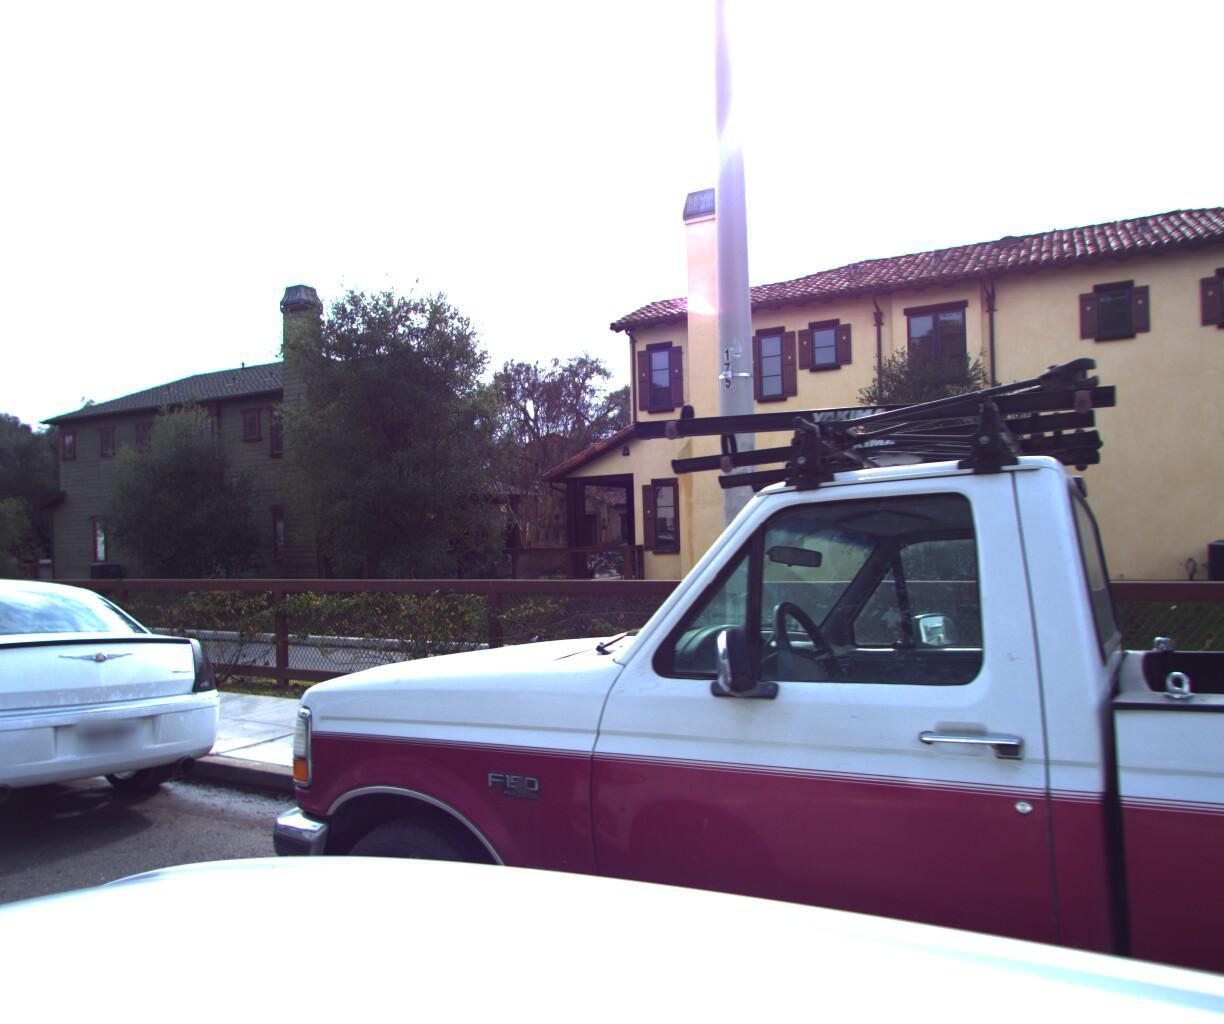car: (210, 0, 1224, 1024), (0, 562, 248, 921)
